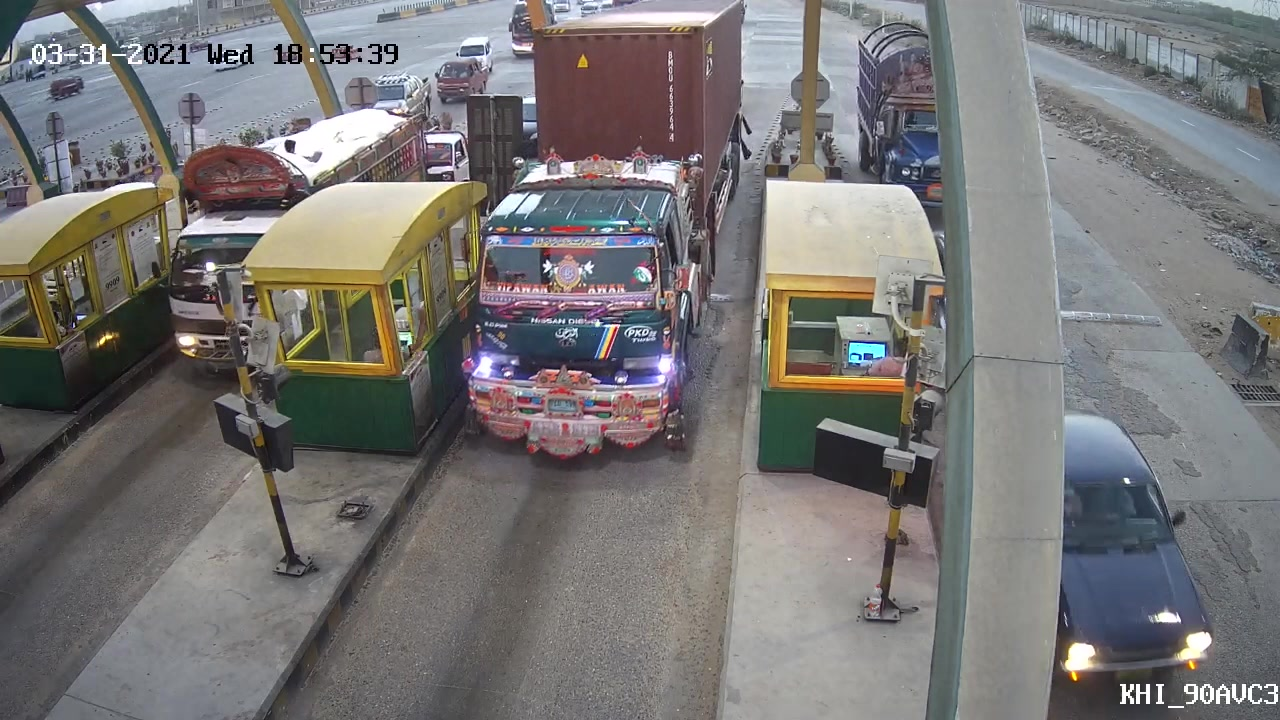F6: (455, 1, 752, 470)
